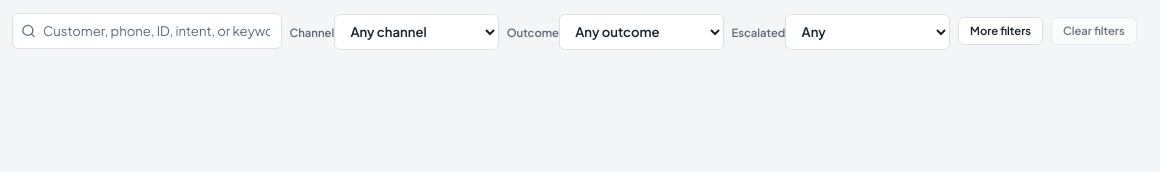
Scenario: ConversationFilterBar › keeps the remaining filters behind More filters until asked
Click the button "More filters": point(1000, 31) [958,17,1043,45]
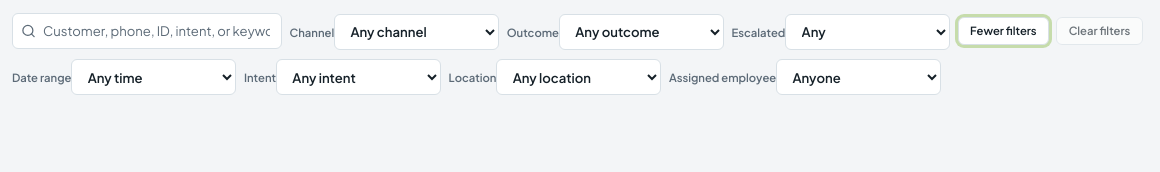
expect the dropdown labelled "Date range" is shown: met, box [71,59,236,95]
expect the dropdown labelled "Intent" is shown: met, box [276,59,441,95]
expect the dropdown labelled "Location" is shown: met, box [496,59,661,95]
